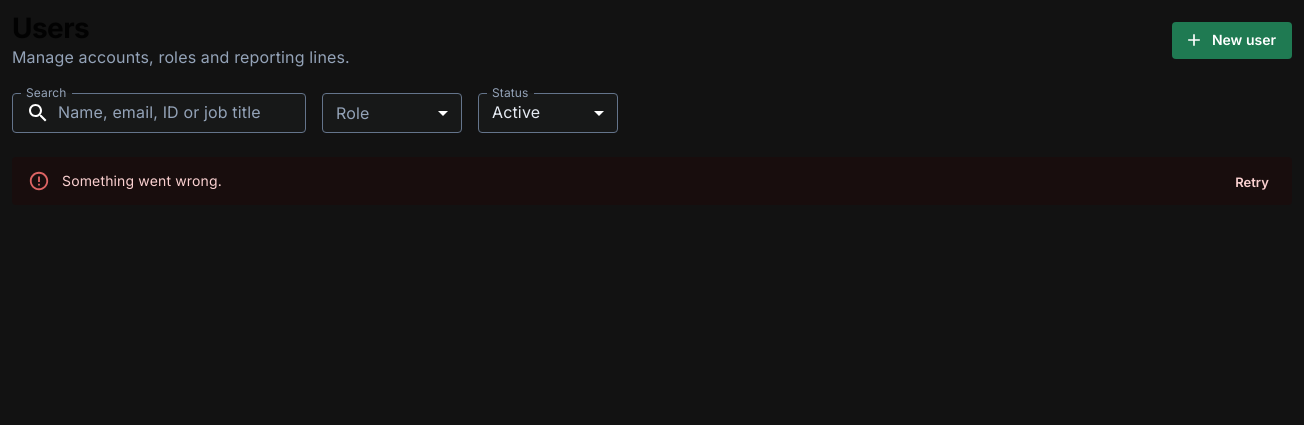
Test case: UsersPage › shows a retryable error when loading fails
Expected: the text "Something went wrong." is shown, [62, 172, 222, 189]
Click the button "Retry" at (1252, 183), box [1220, 167, 1284, 198]
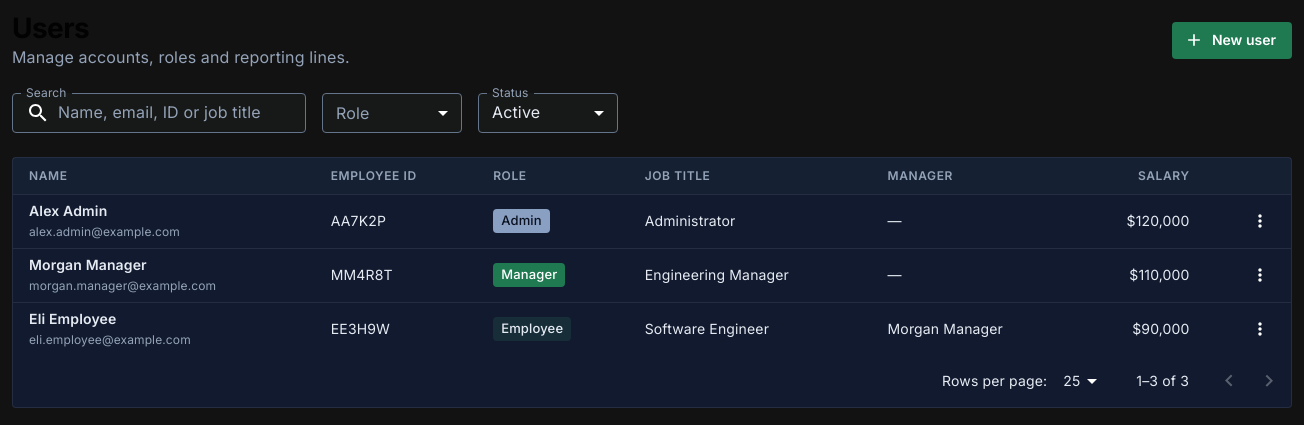
Expected: the text "Eli Employee" is shown, [29, 310, 116, 326]
